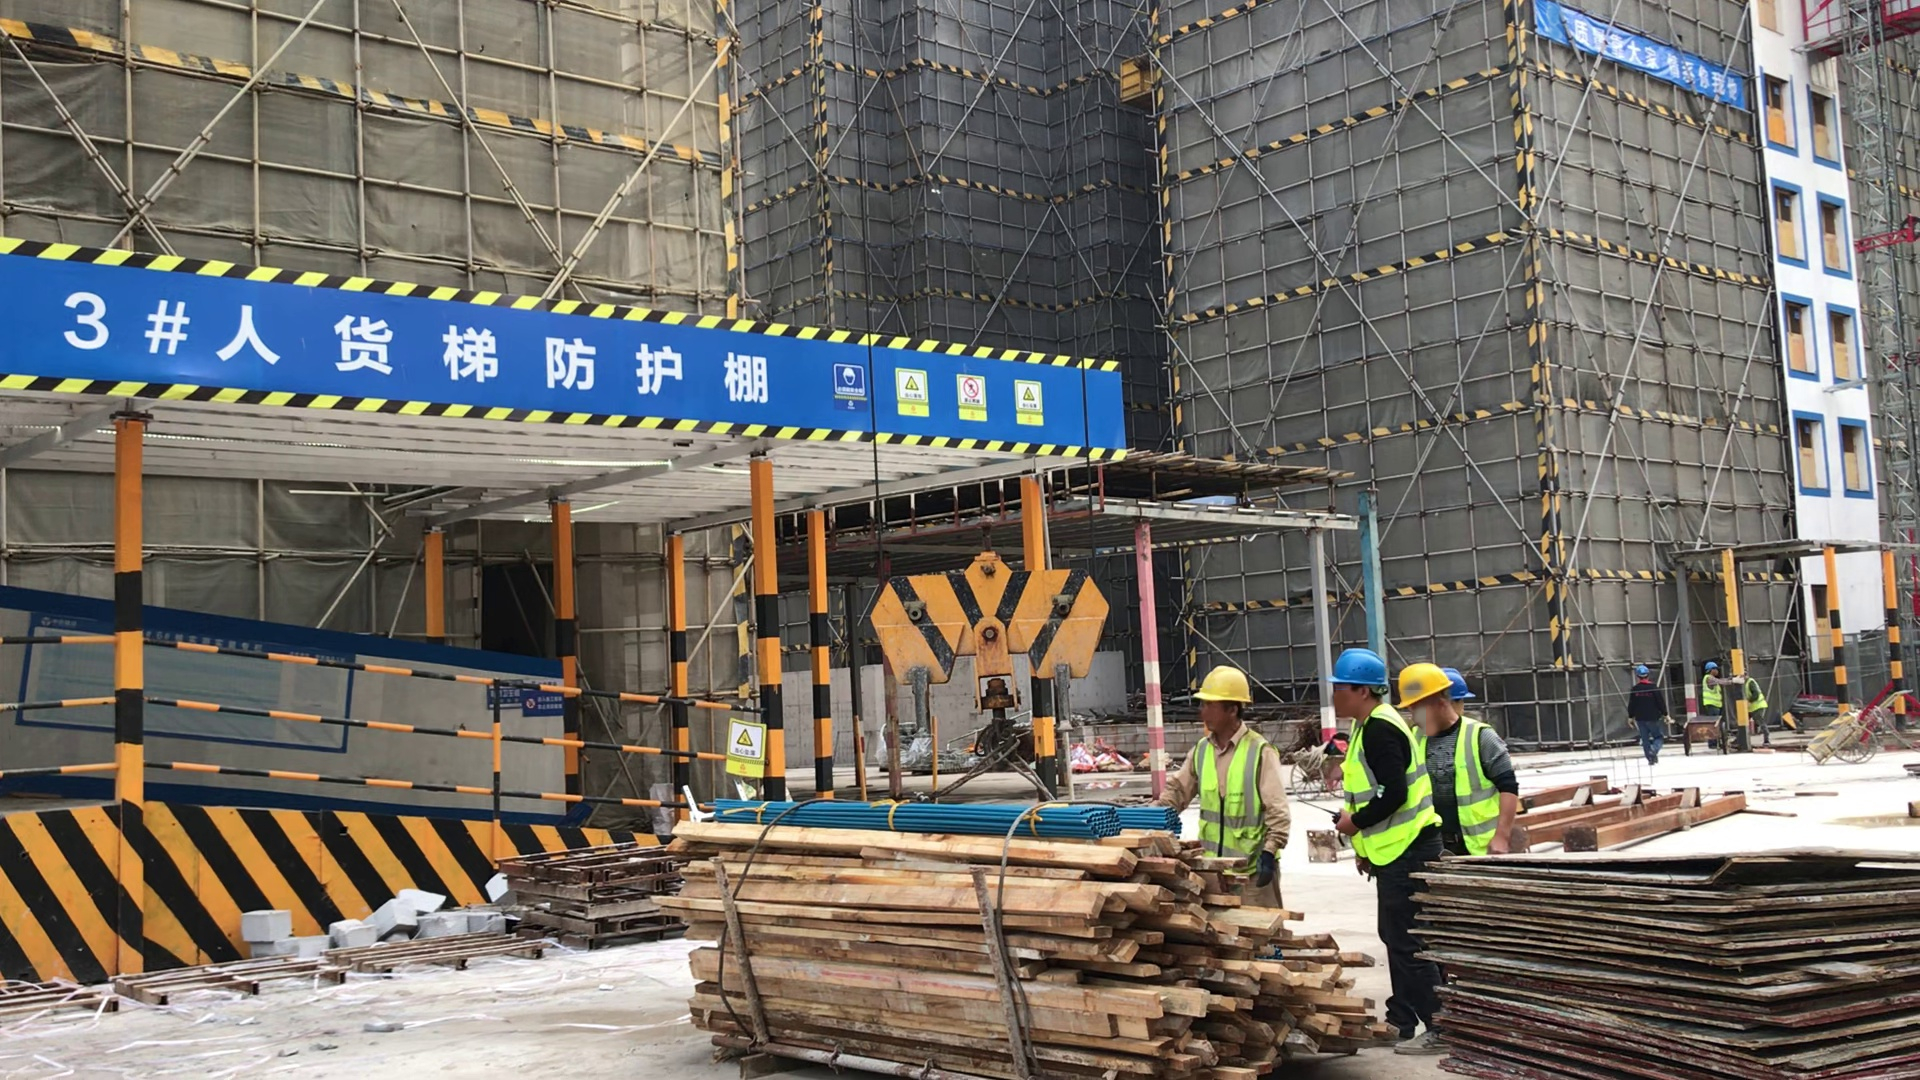helmet: (1194, 663, 1251, 704), (1330, 647, 1389, 686), (1398, 665, 1448, 704), (1442, 668, 1473, 701), (1635, 662, 1648, 679), (1703, 660, 1716, 673)
person: (1310, 650, 1438, 1014), (1151, 658, 1295, 894), (1400, 655, 1530, 877), (1624, 662, 1673, 768), (1742, 672, 1776, 746), (1701, 660, 1723, 717)
vest: (1343, 710, 1426, 863), (1191, 719, 1272, 859), (1426, 723, 1501, 853), (1744, 676, 1766, 713), (1703, 673, 1722, 708)
